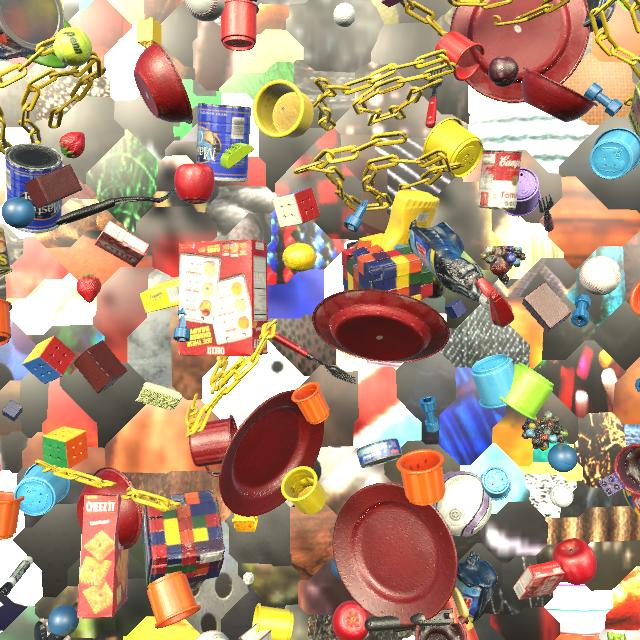ycb_002_master_chef_can: (5, 143, 63, 233), (196, 103, 251, 182)
ycb_003_cracker_box: (178, 239, 268, 356), (77, 493, 129, 618)
ycb_004_sugar_box: (140, 276, 181, 313)
ycb_005_tomato_soup_can: (478, 150, 522, 210)
ycb_006_mustard_bottle: (380, 189, 440, 252), (623, 489, 640, 518)
ycb_007_tuna_fish_can: (357, 438, 403, 468), (583, 0, 617, 32)
ycb_008_pudding_box: (238, 623, 272, 640)
ycb_009_gelatin_box: (95, 221, 150, 267), (513, 560, 565, 600)
ycb_010_potted_meat_can: (628, 81, 640, 138), (0, 227, 13, 276)
ycb_012_strawberry: (77, 274, 101, 303), (59, 132, 85, 158)
ycb_013_apple: (553, 538, 597, 585), (174, 163, 215, 204), (332, 601, 371, 640)
ycb_014_lemon: (282, 243, 317, 272)
ycb_018_plum: (488, 56, 519, 87)
